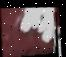dent: (0, 0, 63, 57)
